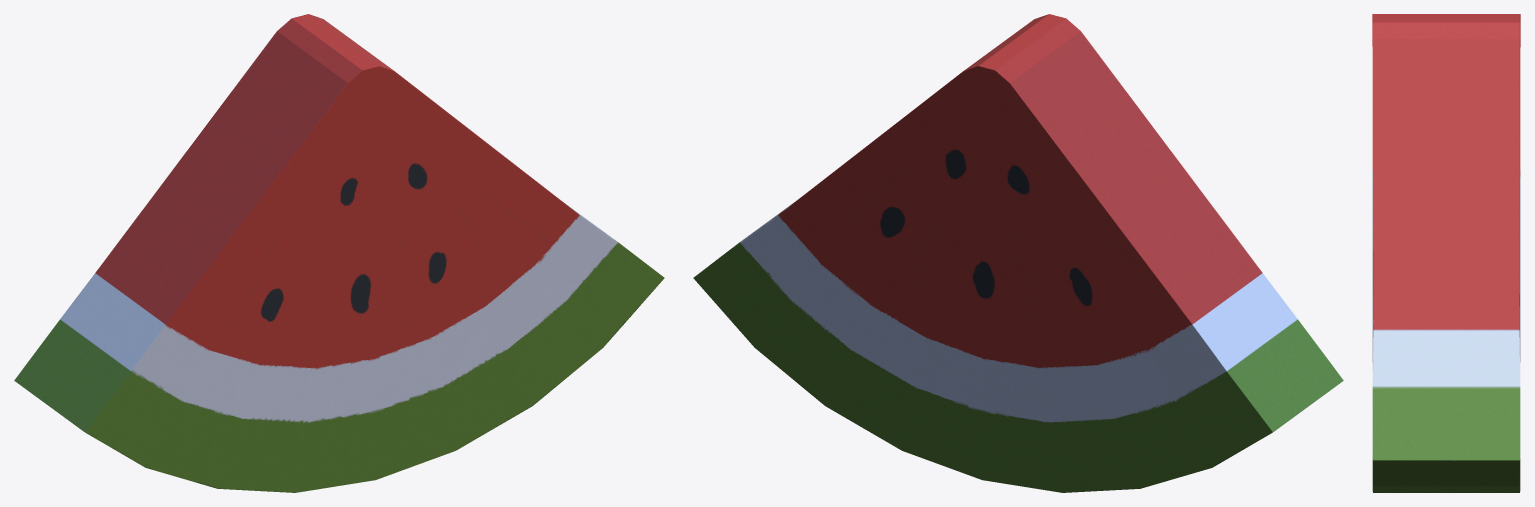
Rendered from Watermelon.fbx.
3 renders of one model, left to right at view 1: azimuth 30°, elevation 25°; view 2: azimuth 150°, elevation 25°; view 3: azimuth 270°, elevation 25°, orthographic. The views are drawn at different scales.
Visible parts, largest first — view 1: Watermelon; view 2: Watermelon; view 3: Watermelon.
Boxes of the visible parts, x1=… form: Watermelon: x1=14, y1=14, x2=664, y2=492; Watermelon: x1=693, y1=14, x2=1343, y2=492; Watermelon: x1=1372, y1=14, x2=1520, y2=492.
Size of the model in its own units: 4.34 by 2.96 by 0.9235.
